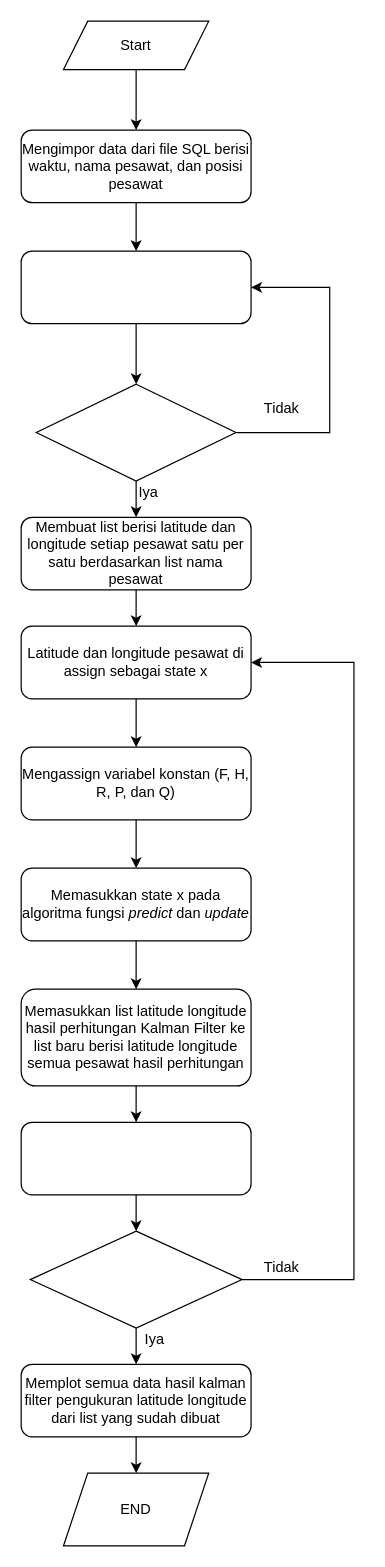
Some shapes in this 385 by 1567 pixel diagram are drawn without their labels. The centre of each missing label's shape, as x and y in pixels:
"Apakah semua nama pesawat tersebut sudah masuk list?" belongs at point (135, 1279).
"Apakah sudah semua pesawat?" belongs at point (135, 432).
"Membuat List berisi nama pesawat di data" belongs at point (135, 287).
"Menghitung Distance Error selisih hasil perhitungan kalman filter dan pengukuran" belongs at point (135, 1158).
